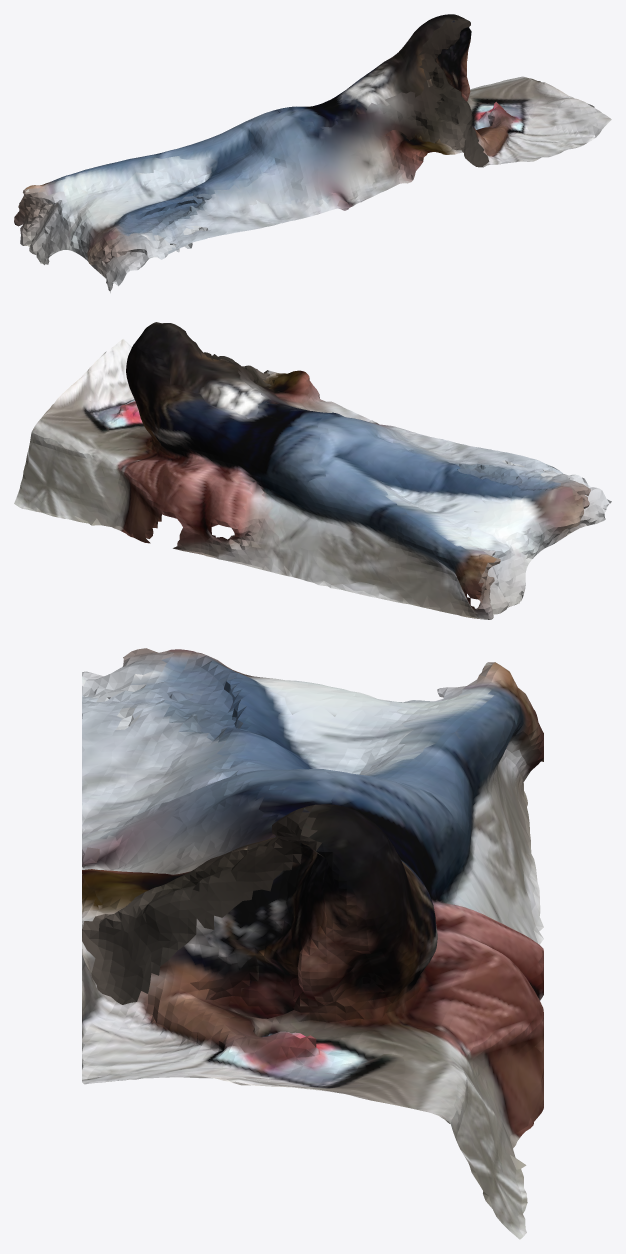
3 views of the same model, one above another, from view 1: azimuth 30°, elevation 25°; view 2: azimuth 150°, elevation 25°; view 3: azimuth 270°, elevation 25° (orthographic). The views are drawn at different scales.
Bounding box in the file's own units: 1.84 × 0.603 × 0.753.
Materials: 1 (1 with a texture image).
